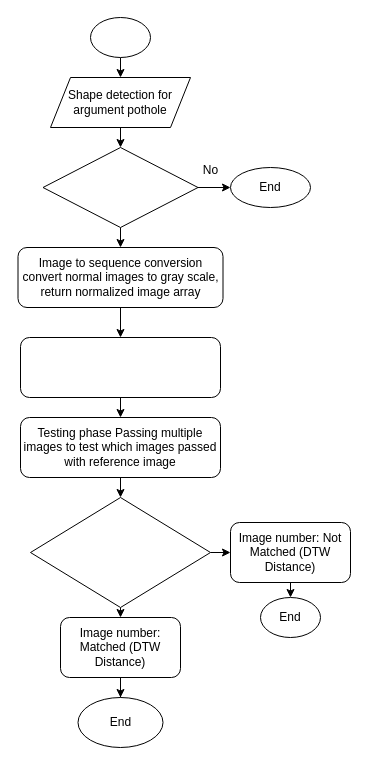
The diagram is 368 pixels wide and 765 high, and some of its shapes have lost their labels. Here are the shapes that lost their labels. From the top down, the centre of each, then its label:
(x=120, y=37): Start
(x=120, y=187): Shape detection for = 'pothole'
(x=120, y=367): Learning phase DTW Algorithm learns reference image
(x=120, y=552): Test image matched with reference image?
